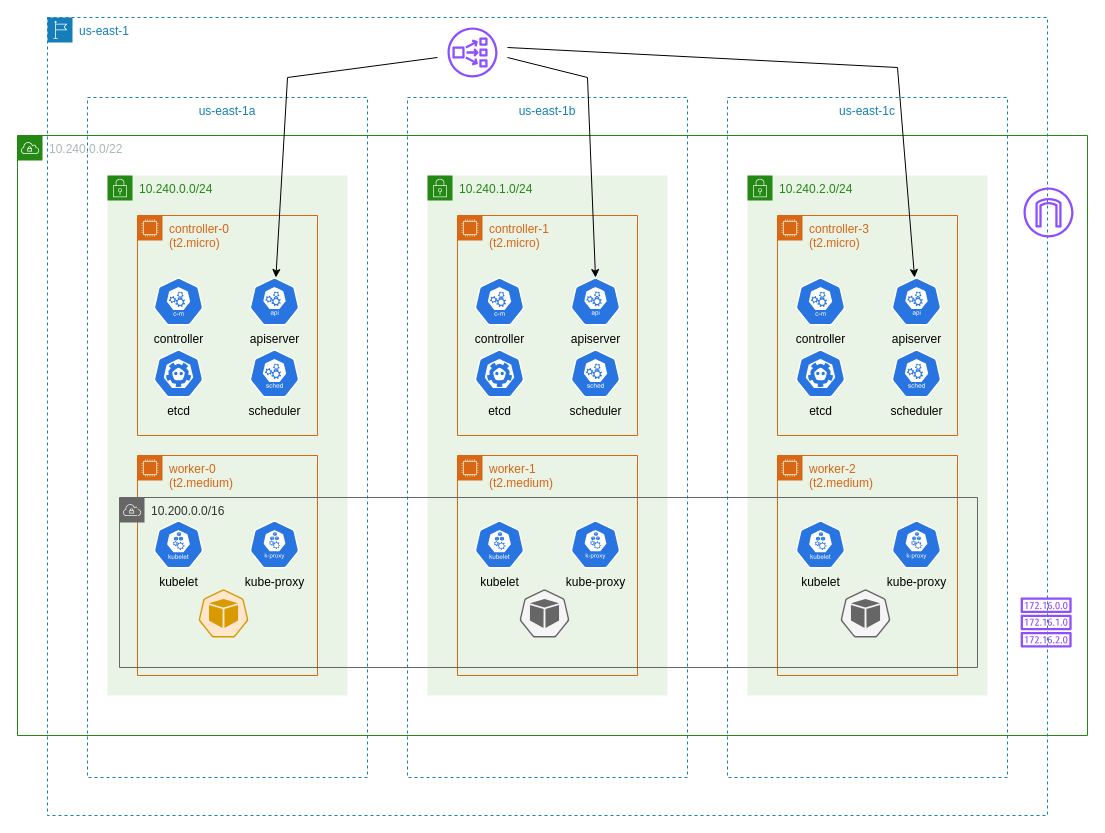
This 1105x833 diagram has some shape labels left out. The centre of each missing label's shape, as x and y in pixels:
"busybox" goes at (544,613).
"core-dns" goes at (223,613).
"Internet Gateway" goes at (1048,212).
"Network Load Balancer" goes at (472,52).
"nginx" goes at (865,613).
"Routing" goes at (1045,622).
